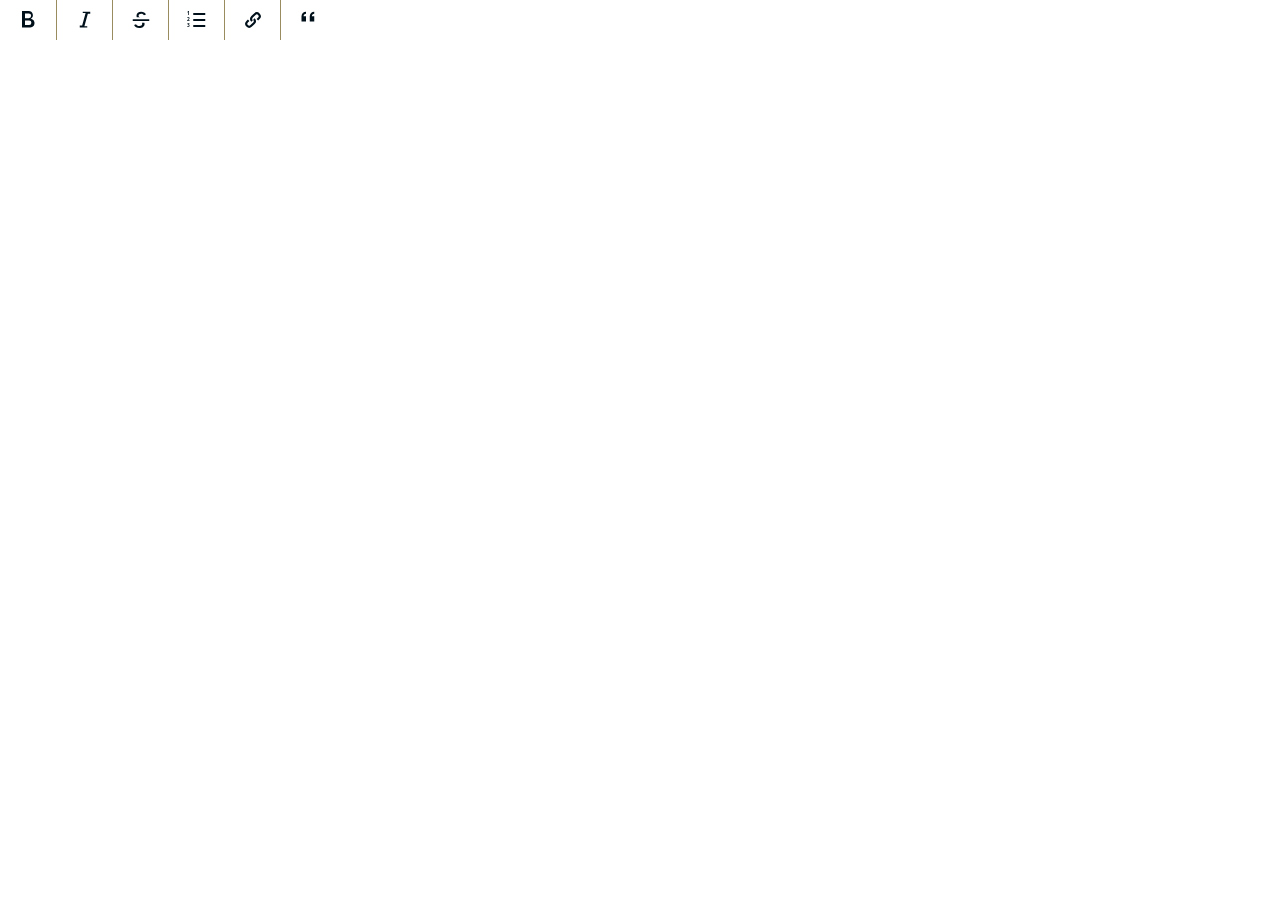
Test: RichTextToolbar › opens the insert-link dialog (not window.prompt) when the link button is clicked
This screenshot has width=1280, height=900.
Click the button named "Chèn liên kết" at (252, 20), box [224,0,280,40]
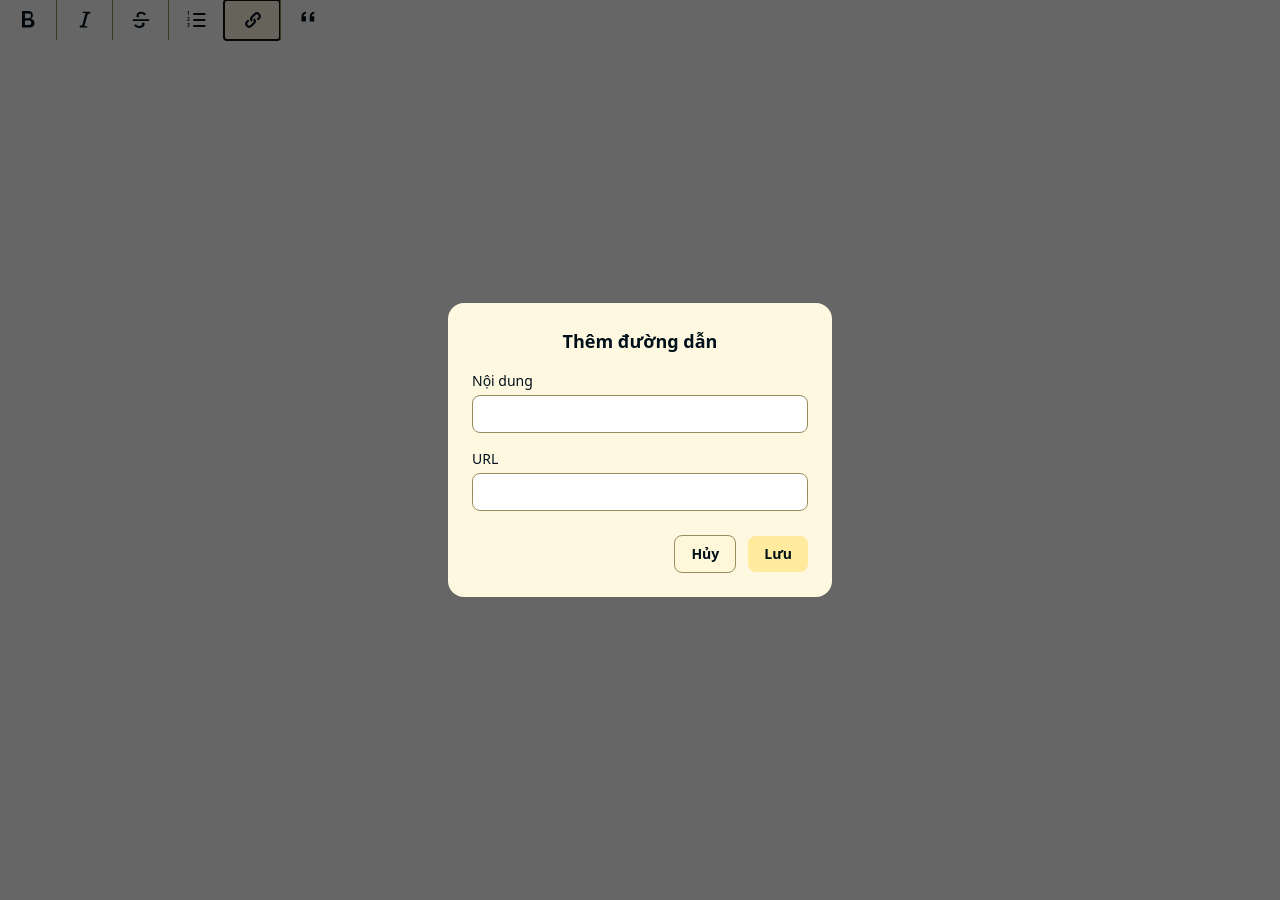
Now the dialog "Thêm đường dẫn" is shown, box [448,303,832,597]
